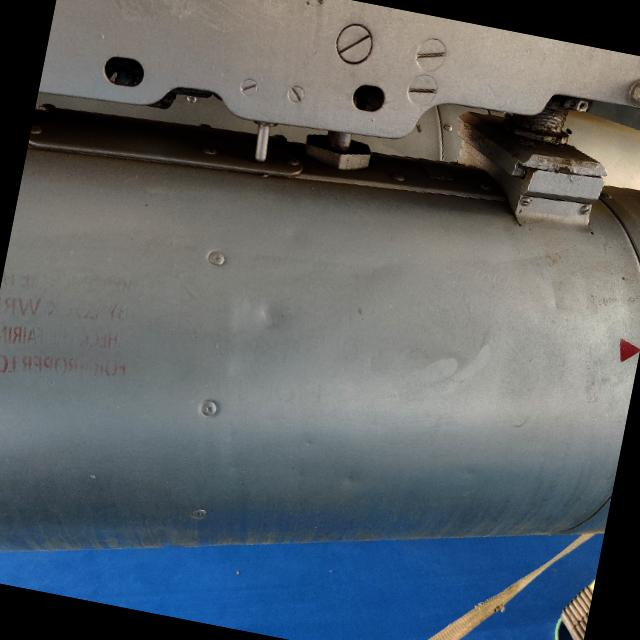dent: (237, 286, 303, 345)
